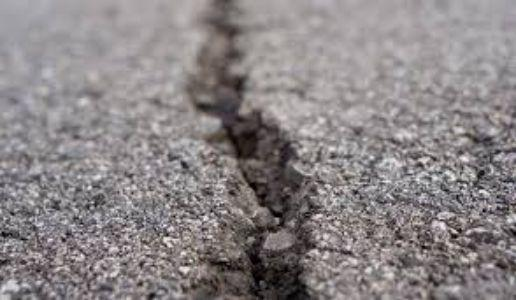crack: (182, 2, 334, 300)
